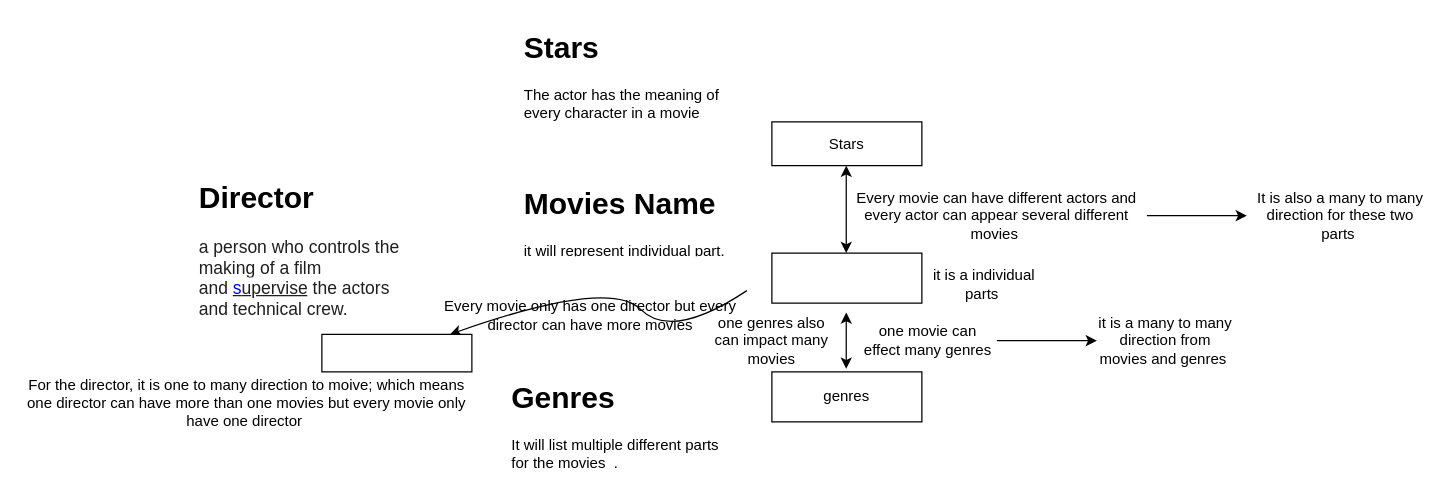
Some shapes in this 1455 by 496 pixel diagram are drawn without their labels. Here are the shapes that lost their labels. From the top down, the centre of each, then its label:
At [846,277]: "movies Name".
At [396,352]: "Director".
